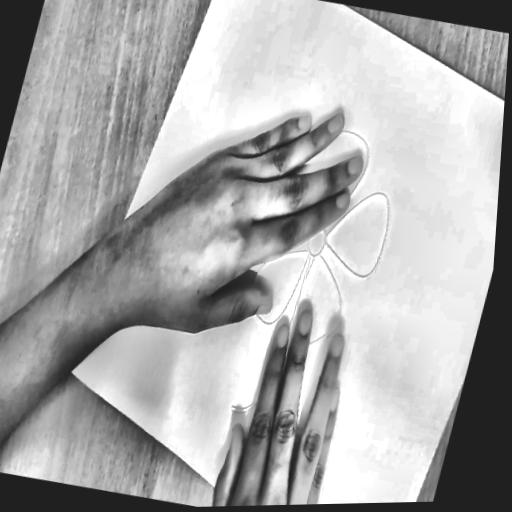bottom_right: (58, 352, 72, 371)
flower: (165, 86, 434, 474)
